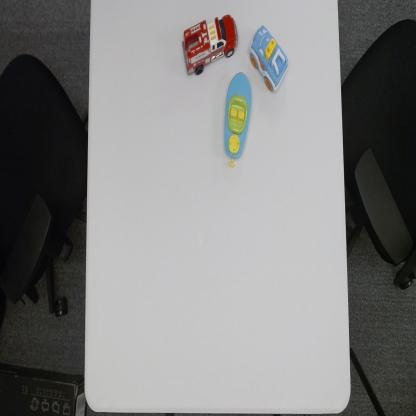Boat: (223, 71, 252, 167)
Car: (247, 22, 290, 92)
Firetruck: (180, 12, 240, 78)
